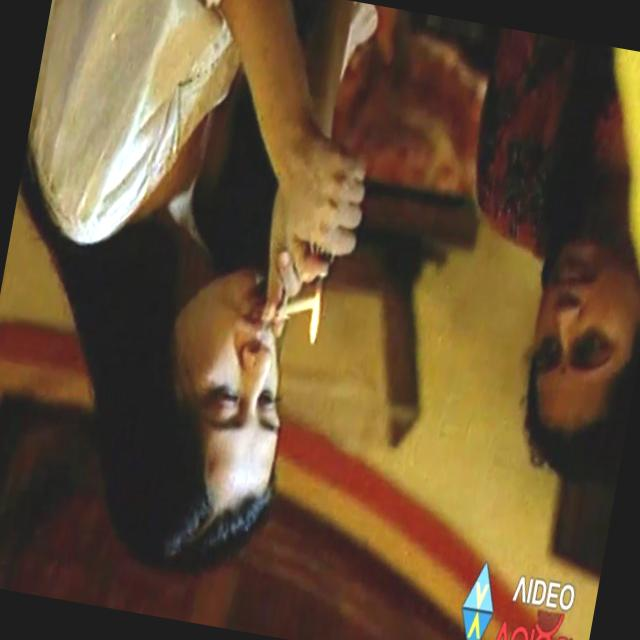smoke: (264, 249, 352, 339)
